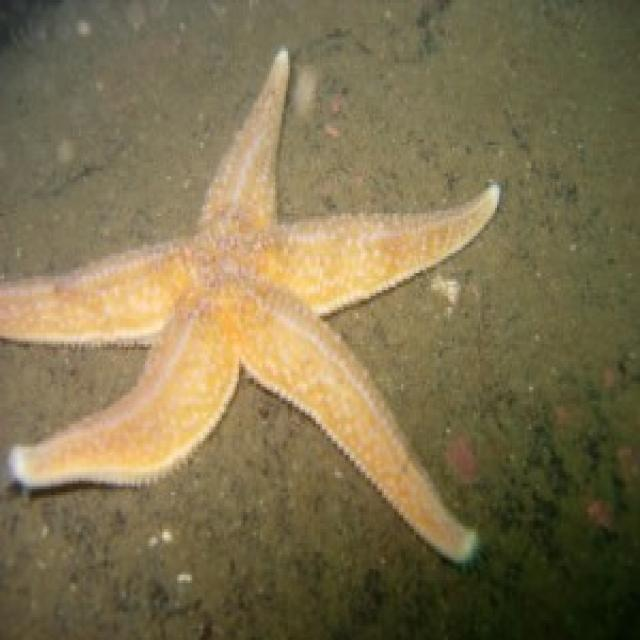Starfish: (0, 18, 535, 585)
